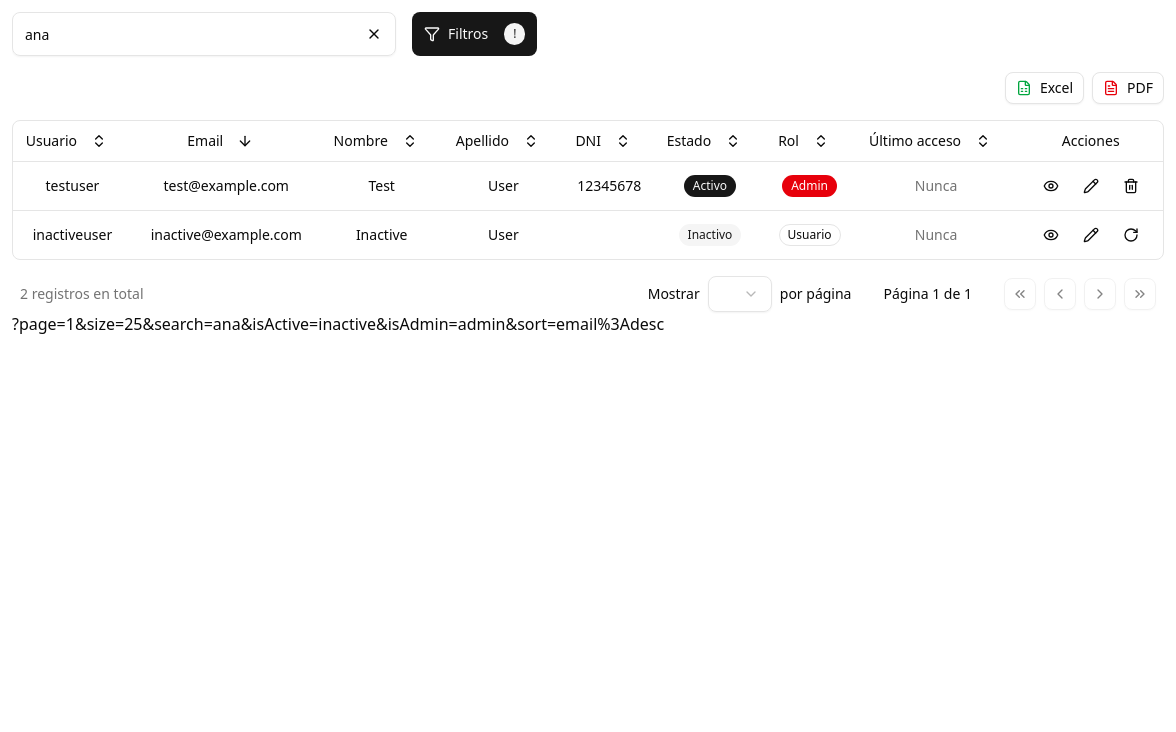
UsersTable › clears advanced filters and sorting while preserving pagination size
Click the button "Filtros !".
click(475, 34)  # box left=412, top=12, right=538, bottom=56
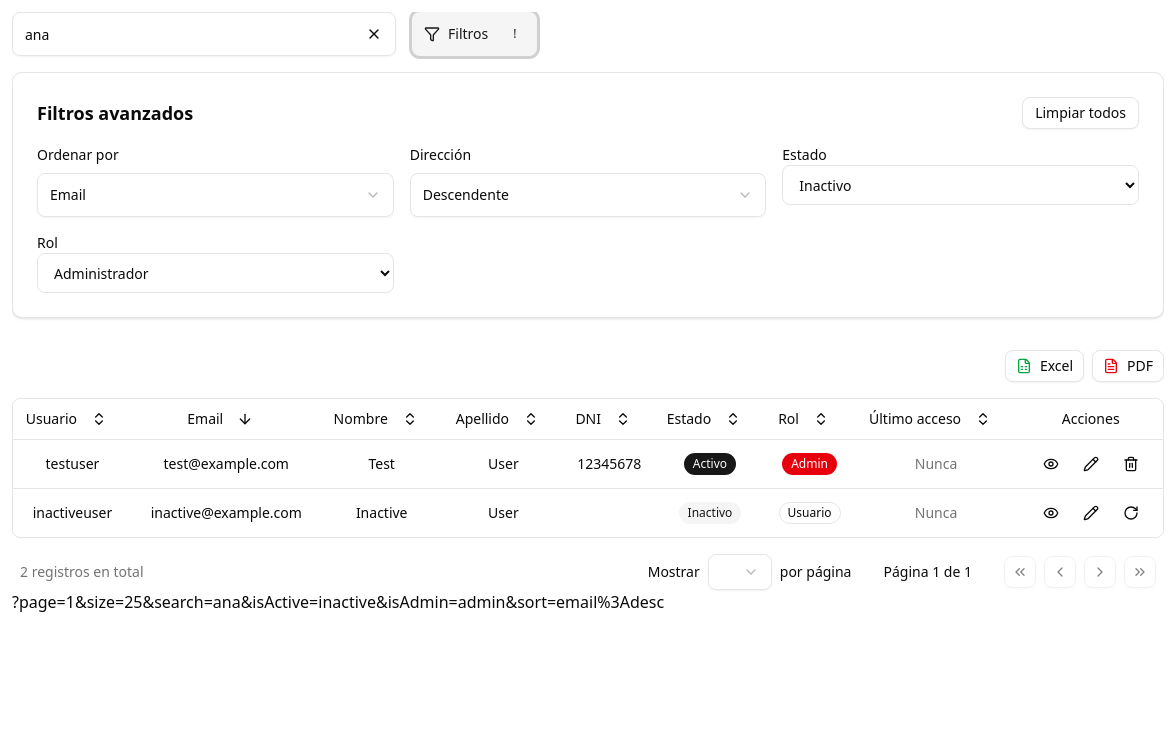
Click the button "Limpiar todos".
click(1081, 113)  # box left=1022, top=97, right=1139, bottom=129
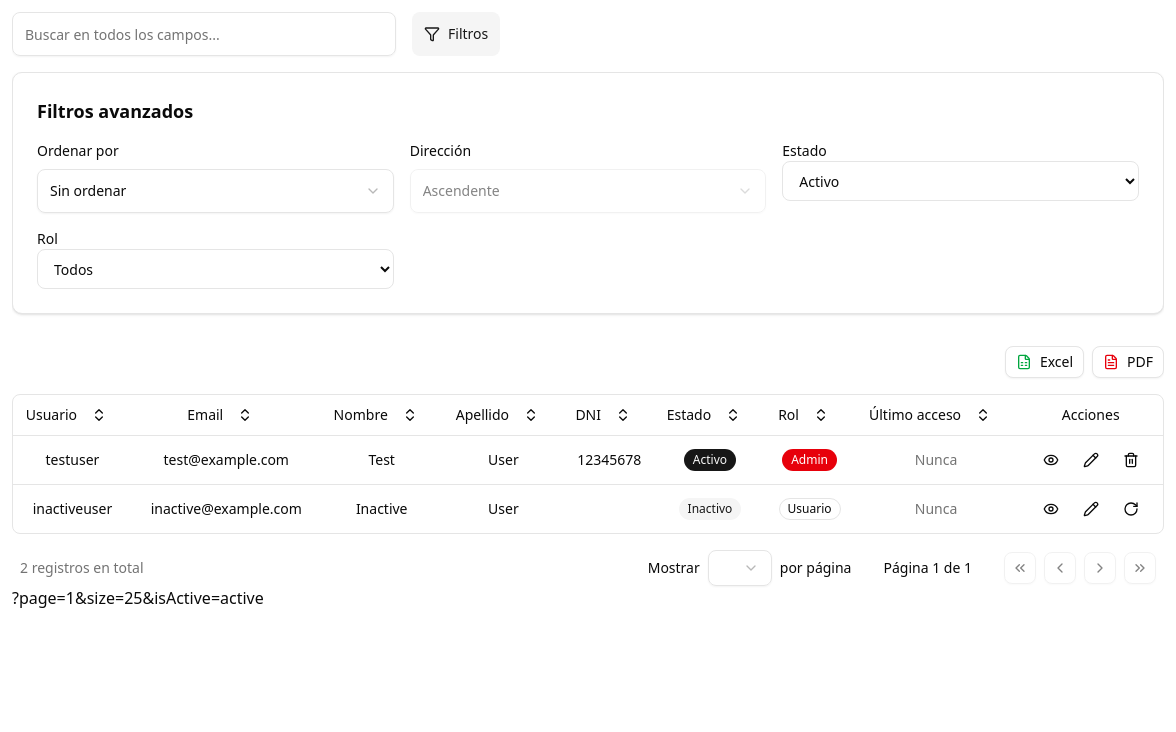
Expected: the text with test id "location-search" shows "isActive=active", left=12, top=586, right=264, bottom=608
Expected: the text with test id "location-search" no longer shows "sort=", left=12, top=586, right=264, bottom=608
Expected: the text with test id "location-search" no longer shows "search=", left=12, top=586, right=264, bottom=608
